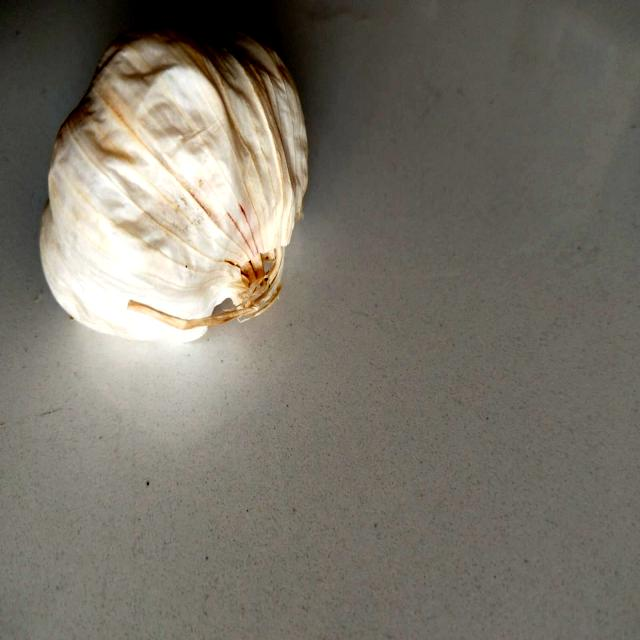garlic: (23, 16, 335, 358)
